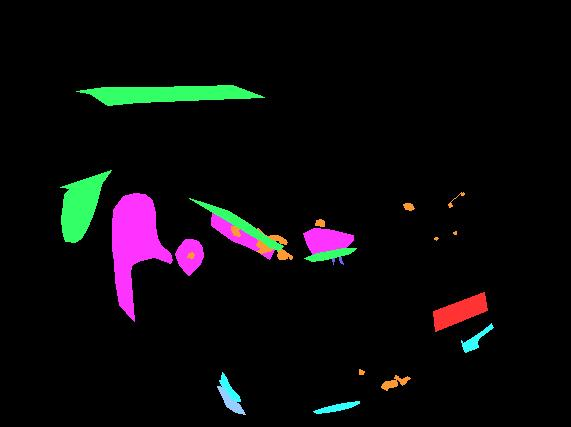Broken part: (189, 198, 283, 250), (76, 85, 264, 105), (60, 170, 111, 242), (304, 248, 356, 261)
Corrosion: (217, 386, 245, 414)
Dent: (112, 193, 172, 321), (211, 209, 275, 259), (303, 228, 353, 256), (175, 239, 203, 275)
Flaking: (461, 323, 493, 352), (219, 372, 240, 401), (313, 401, 359, 413)
Missing part: (433, 292, 487, 331)
Paint chip: (255, 235, 292, 259), (255, 228, 287, 244), (448, 192, 461, 207), (381, 380, 397, 390), (394, 375, 410, 385), (231, 226, 240, 236), (403, 203, 414, 210), (315, 219, 324, 226), (187, 252, 194, 258), (359, 369, 364, 374), (434, 237, 438, 240), (453, 231, 456, 234), (461, 192, 464, 195)
Scratch: (320, 251, 345, 264)
